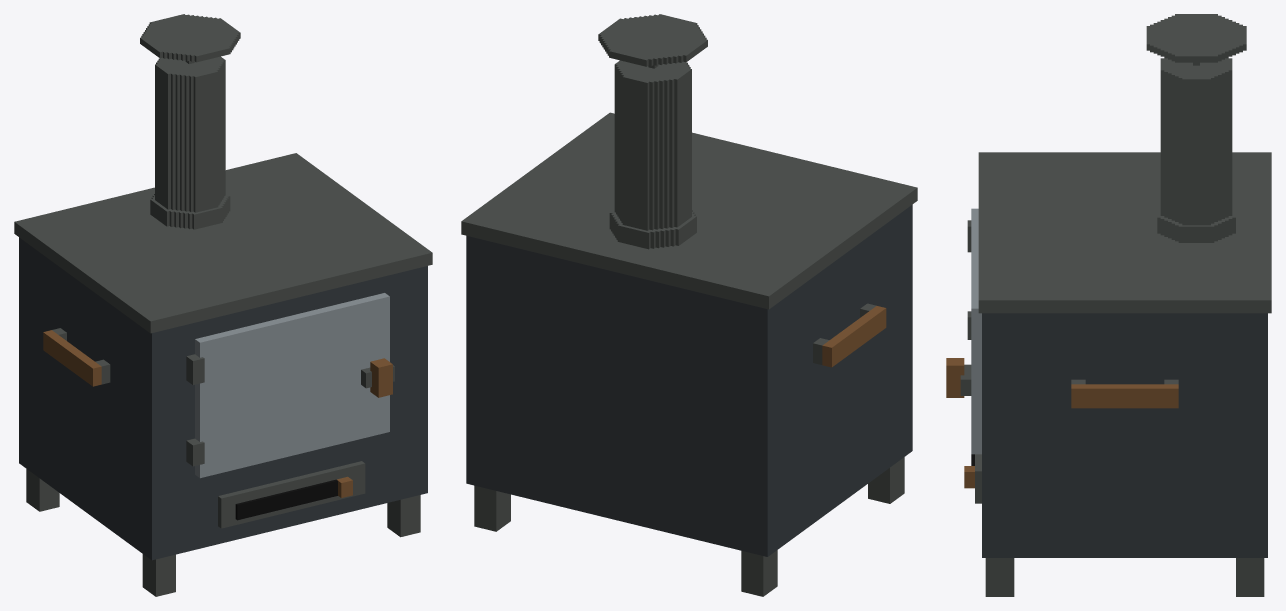
Rendered from brick_kiln.glb.
The picture shows the model from 3 angles, left to right: view 1: azimuth 30°, elevation 25°; view 2: azimuth 150°, elevation 25°; view 3: azimuth 270°, elevation 25°; orthographic projection. The views are drawn at different scales.
Visible parts, largest first — view 1: brick_kiln:compound; view 2: brick_kiln:compound; view 3: brick_kiln:compound.
Part boxes in pixels (x1,y1,x2,y2): brick_kiln:compound: (14,14,432,596); brick_kiln:compound: (461,14,917,596); brick_kiln:compound: (946,14,1271,596).
Size of the model in its own units: 0.432 by 0.608 by 0.364.
